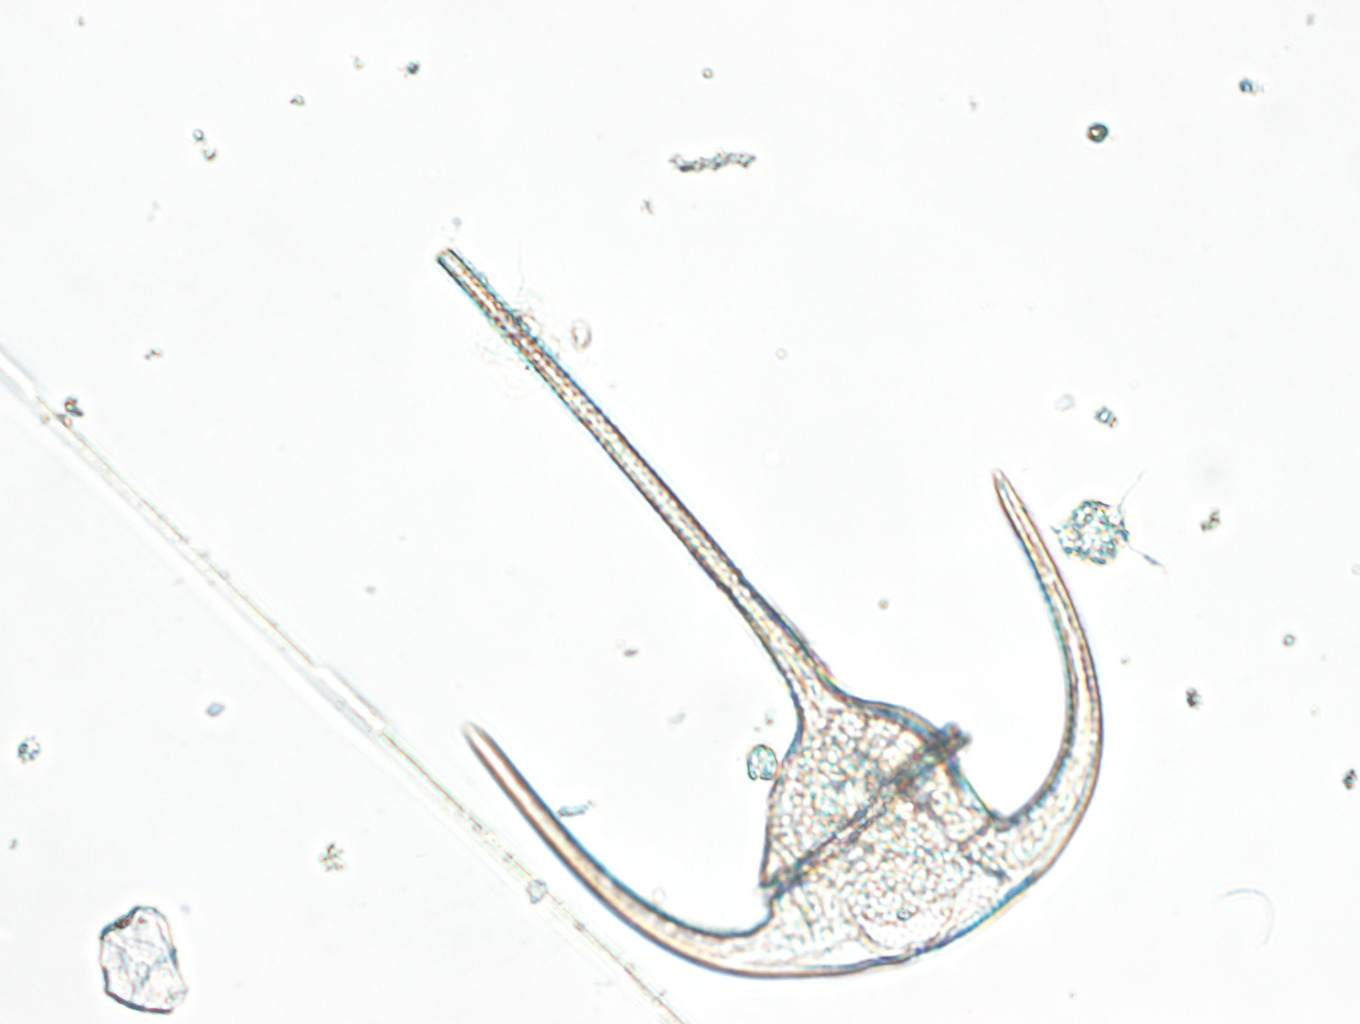ceratium tripos: (439, 234, 1105, 978)
